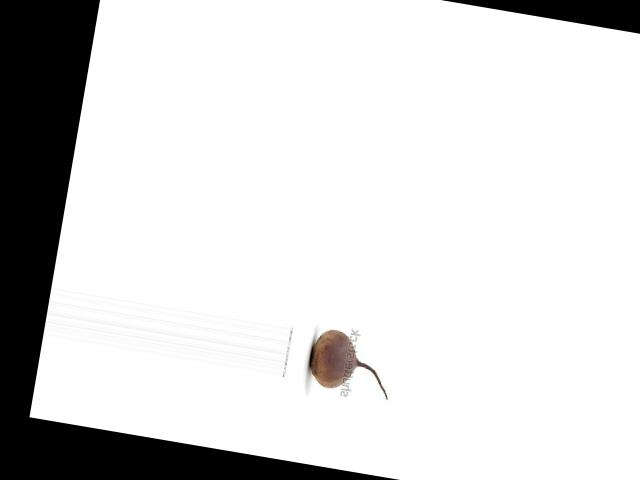beet: (305, 325, 397, 399)
